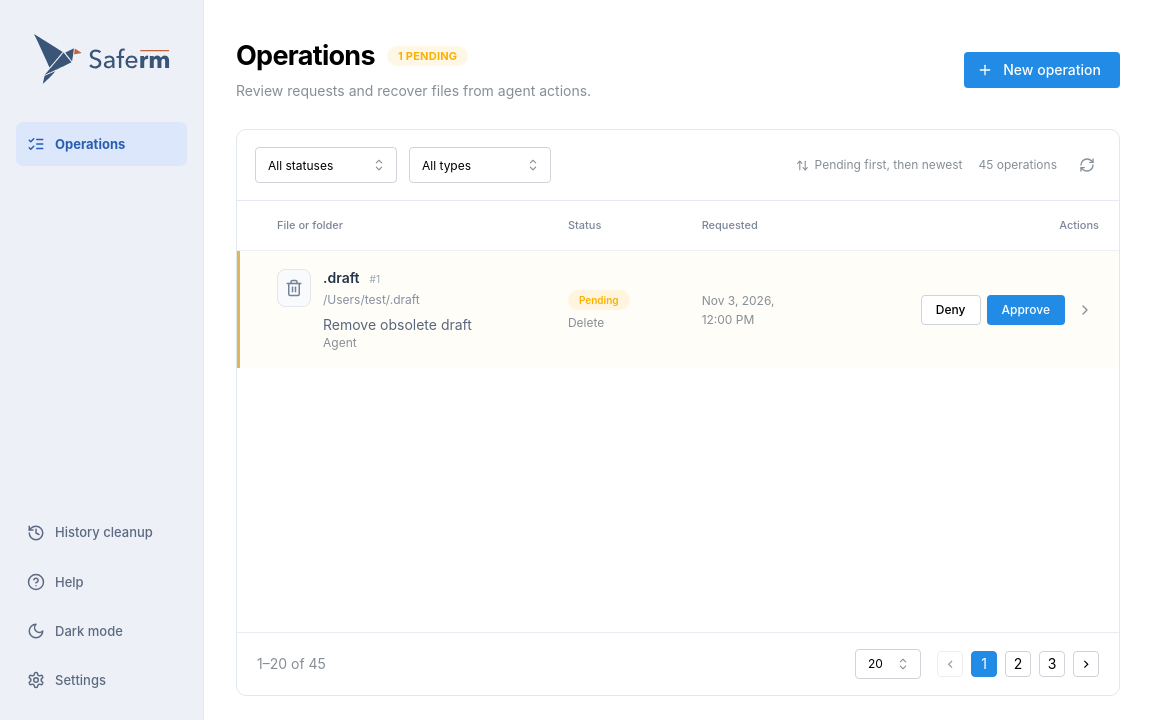
Test: Operations interface › confirms approve through history
Click the button "Approve". click: (1026, 310)
box: [986, 295, 1065, 325]
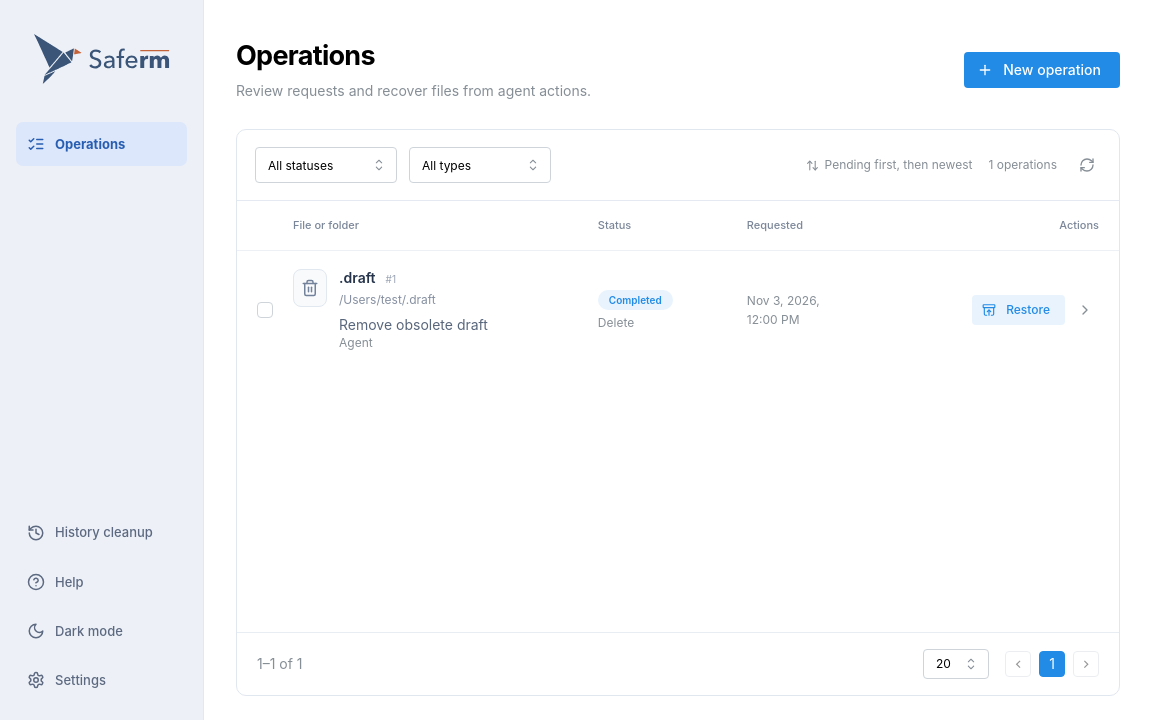
Expected: the button "New operation" is enabled, [964, 52, 1120, 88]
Expected: the text "Completed" is shown, [609, 291, 662, 309]
